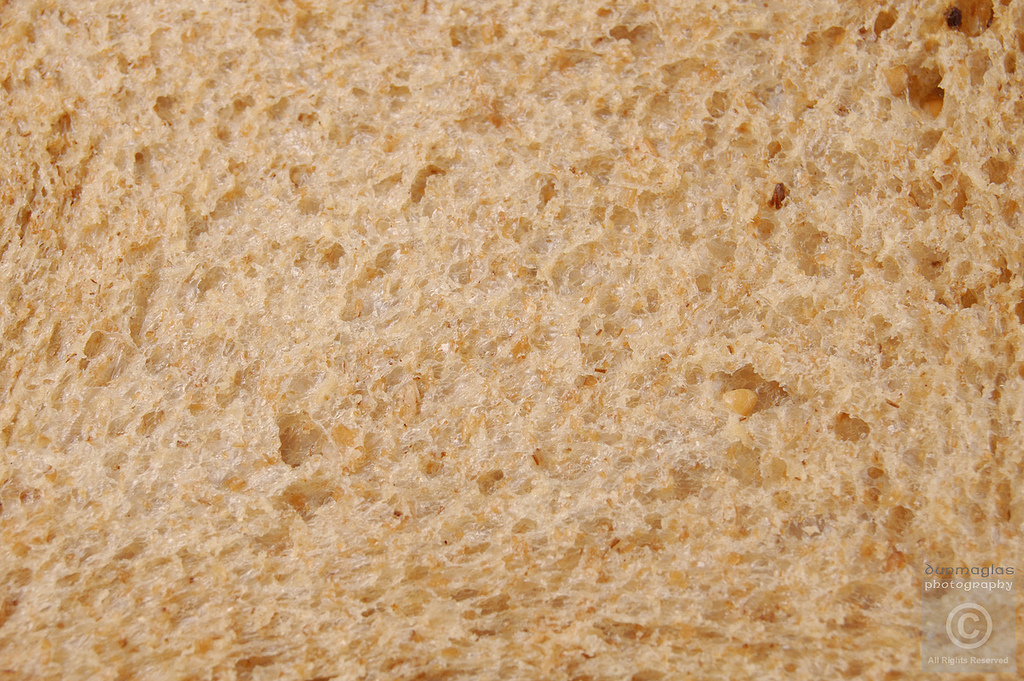slice of bread: (2, 4, 1024, 681)
